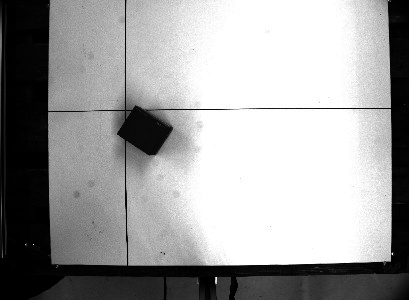b7: (113, 103, 174, 158)
